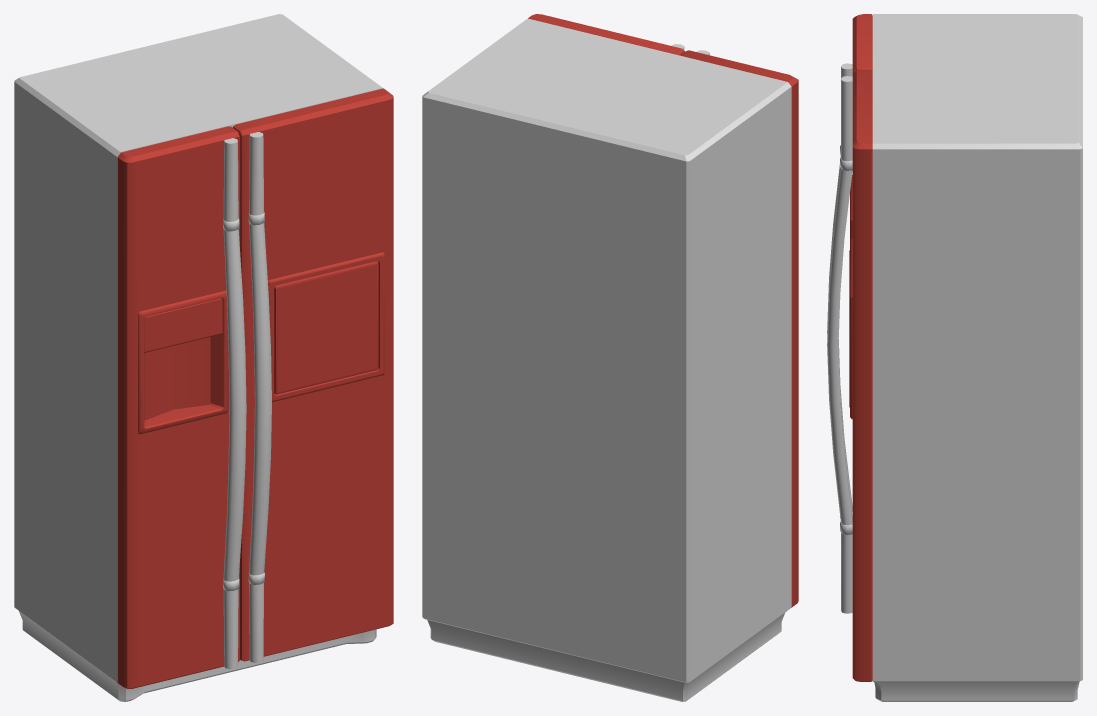
File: refrigerator.FBX
The picture shows the model from 3 angles, left to right: view 1: azimuth 30°, elevation 25°; view 2: azimuth 150°, elevation 25°; view 3: azimuth 270°, elevation 25°; orthographic projection. The views are drawn at different scales.
Visible parts, largest first — view 1: GRP2274NRB; view 2: GRP2274NRB; view 3: GRP2274NRB.
Boxes of the visible parts, box(x1,y1,x2,y2) form: GRP2274NRB: box(14, 14, 393, 701); GRP2274NRB: box(422, 14, 798, 701); GRP2274NRB: box(827, 14, 1082, 701).
Bounding box in the file's own units: 89.4 × 72.5 × 175.
